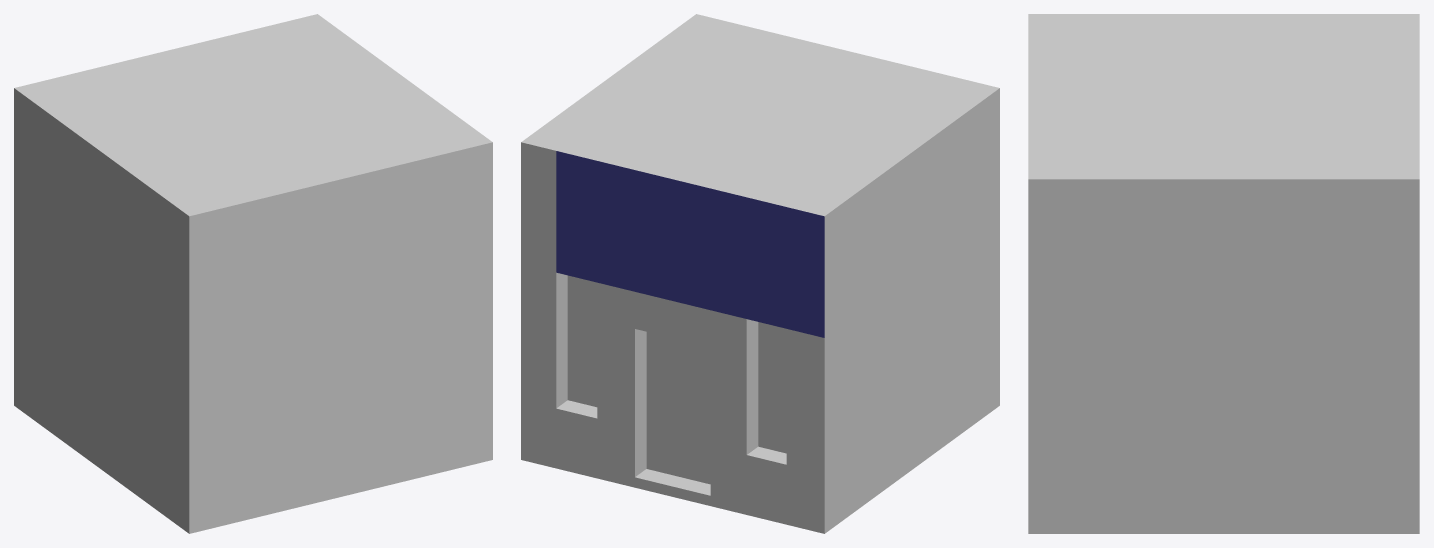
Rendered from DoorWindows.fbx.
3 renders of one model, left to right at view 1: azimuth 30°, elevation 25°; view 2: azimuth 150°, elevation 25°; view 3: azimuth 270°, elevation 25°, orthographic. The views are drawn at different scales.
Parts seen in each view (by area): view 1: DoorWIndows; view 2: DoorWIndows; view 3: DoorWIndows.
Boxes of the visible parts, x1,y1,x2,y2 form: DoorWIndows: [14, 14, 492, 533]; DoorWIndows: [521, 14, 999, 533]; DoorWIndows: [1028, 14, 1419, 533].
Bounding box in the file's own units: 200 × 200 × 200.
